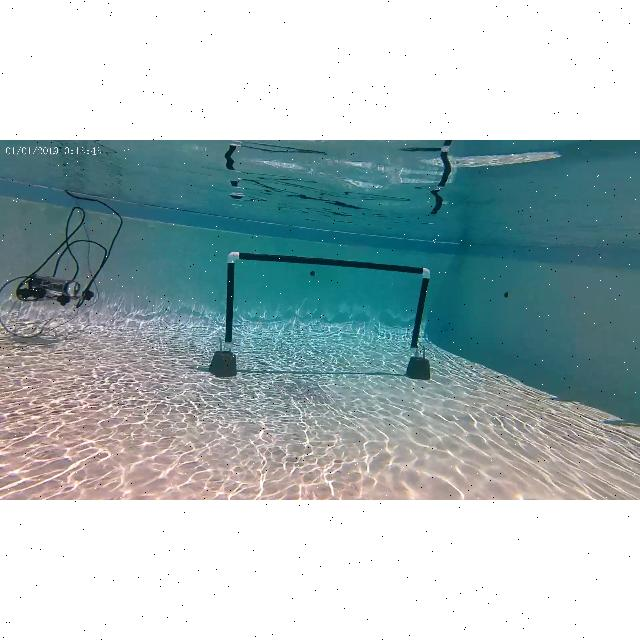prequal gate: (225, 252, 430, 354)
prequal gate leg l: (212, 251, 244, 377)
prequal gate leg r: (410, 262, 434, 382)
